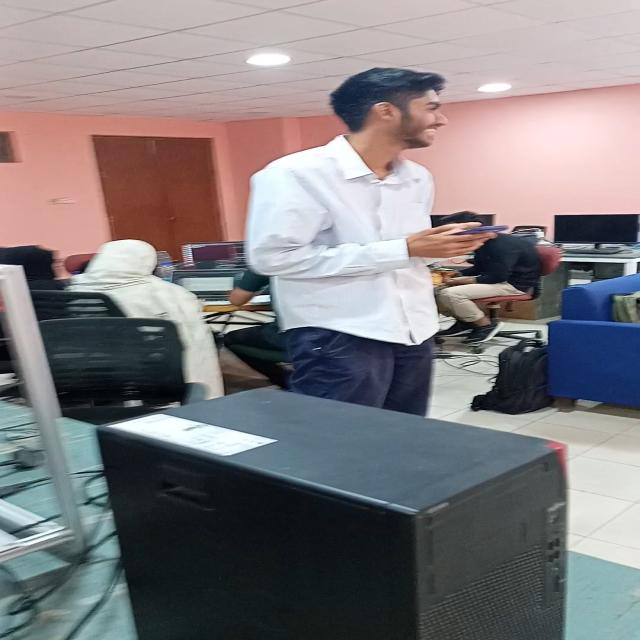dress: (240, 127, 465, 414)
